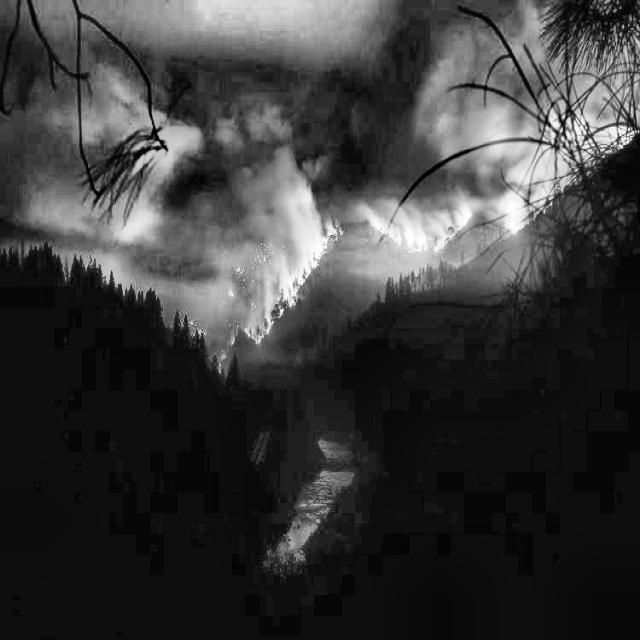fire: (238, 130, 571, 372)
